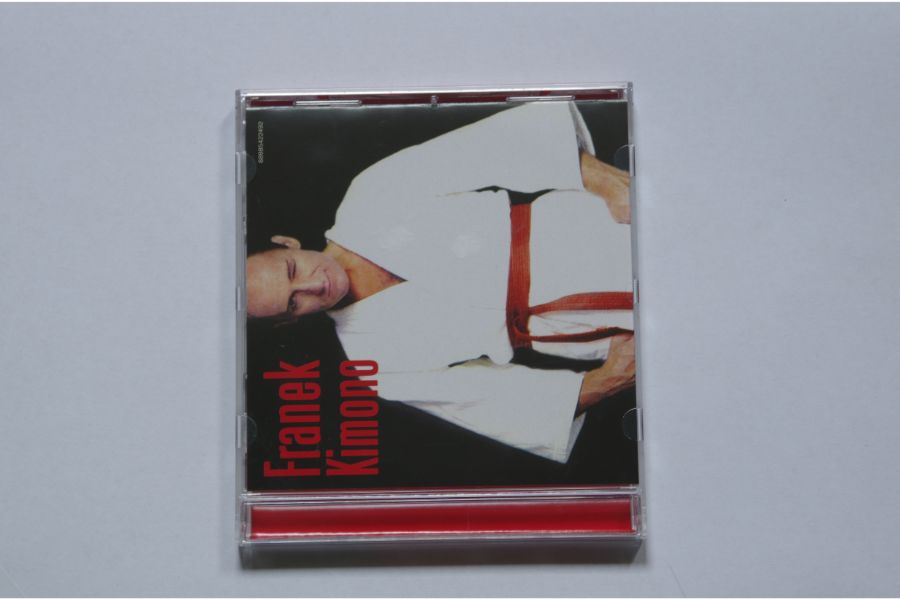album: (235, 80, 649, 550)
